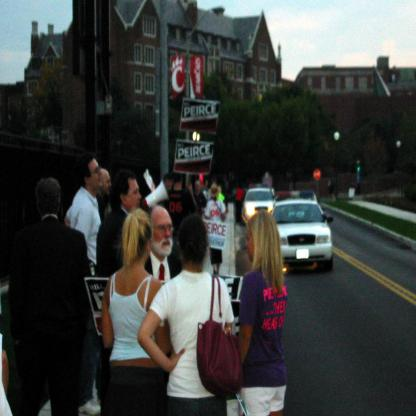Car: (268, 197, 334, 274), (240, 184, 278, 226)
